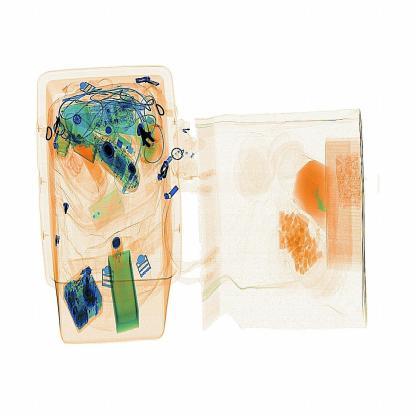gun: (131, 122, 165, 164)
